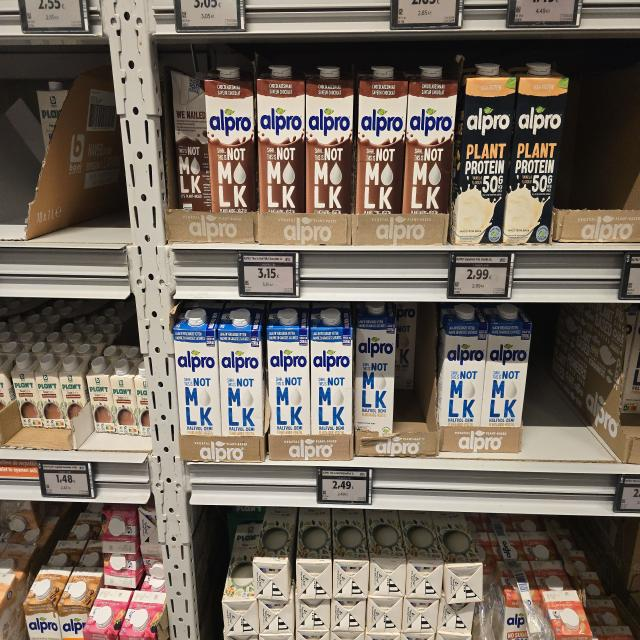Milk: (437, 303, 489, 427), (480, 304, 532, 427), (218, 303, 265, 436), (174, 308, 222, 436), (267, 302, 311, 434), (355, 302, 396, 433), (311, 307, 352, 434), (430, 511, 483, 604), (222, 524, 262, 635), (252, 506, 297, 601), (399, 510, 444, 599), (364, 510, 407, 597), (332, 508, 369, 599), (296, 507, 332, 599)
